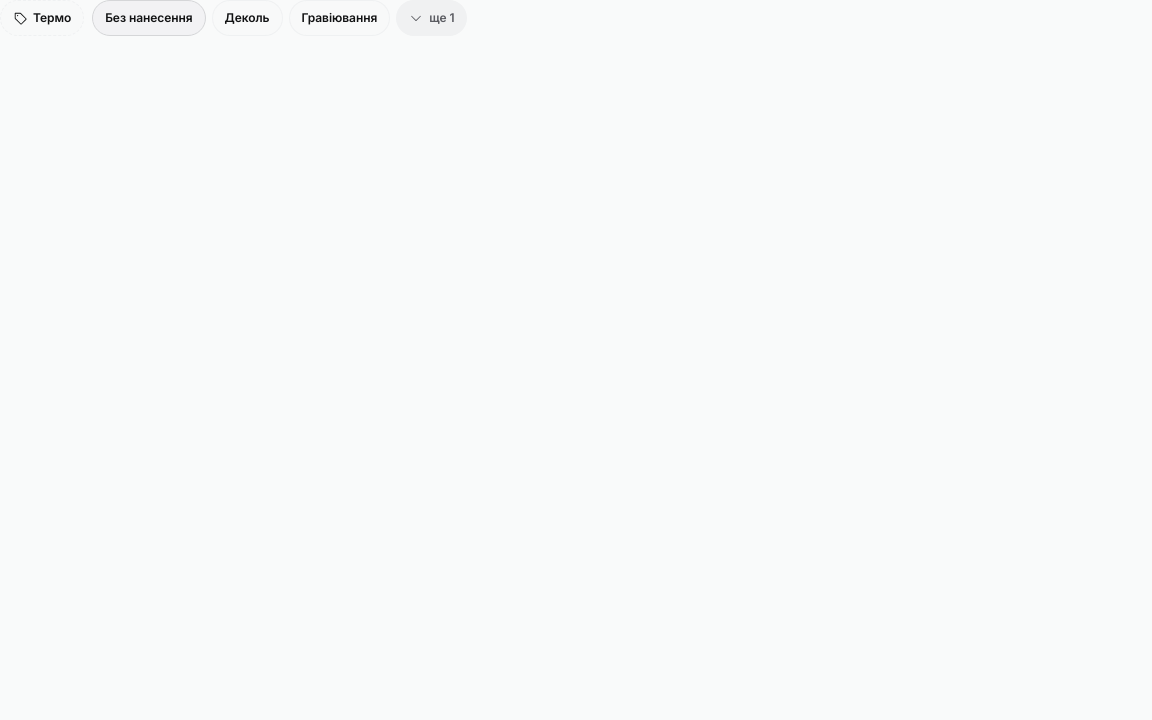
Test case: Нанесення позиції без виду › чужий здогад виправляється чипом виду — і тоді методи не розгортаються
Click the button with aria-label "Вид товару: Термо, припущення".
click(42, 18)  # box [0,0,84,36]
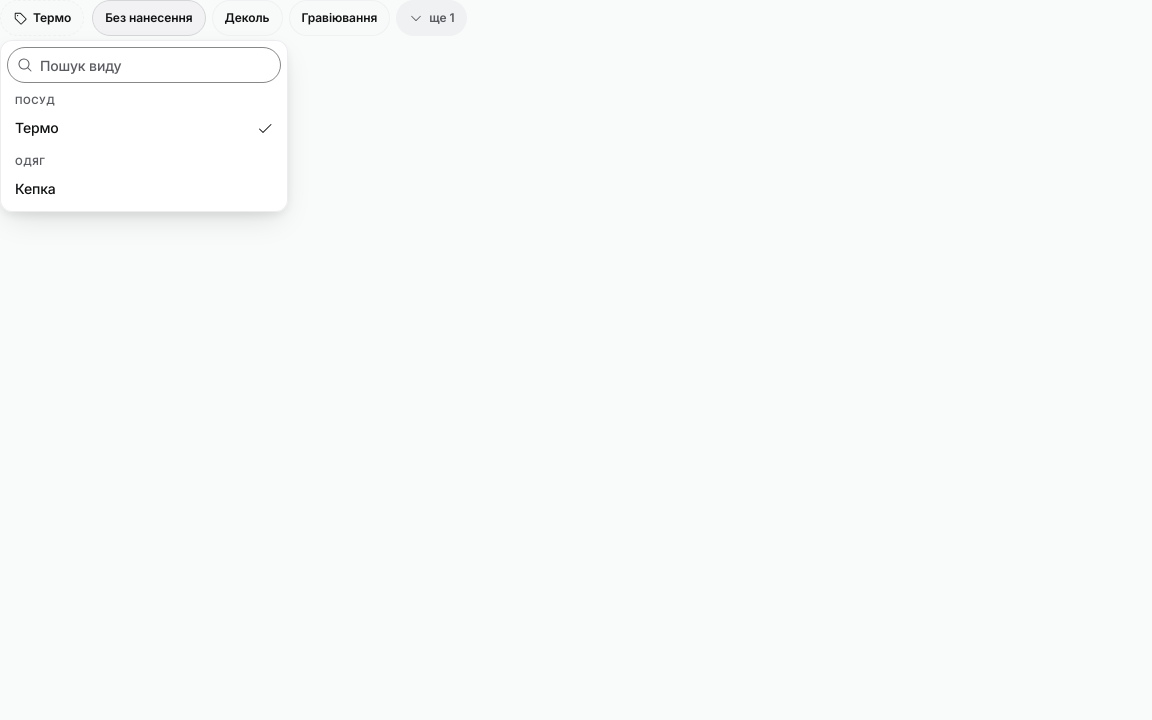
Click the option "Кепка".
click(35, 188)  # box [7,173,281,205]
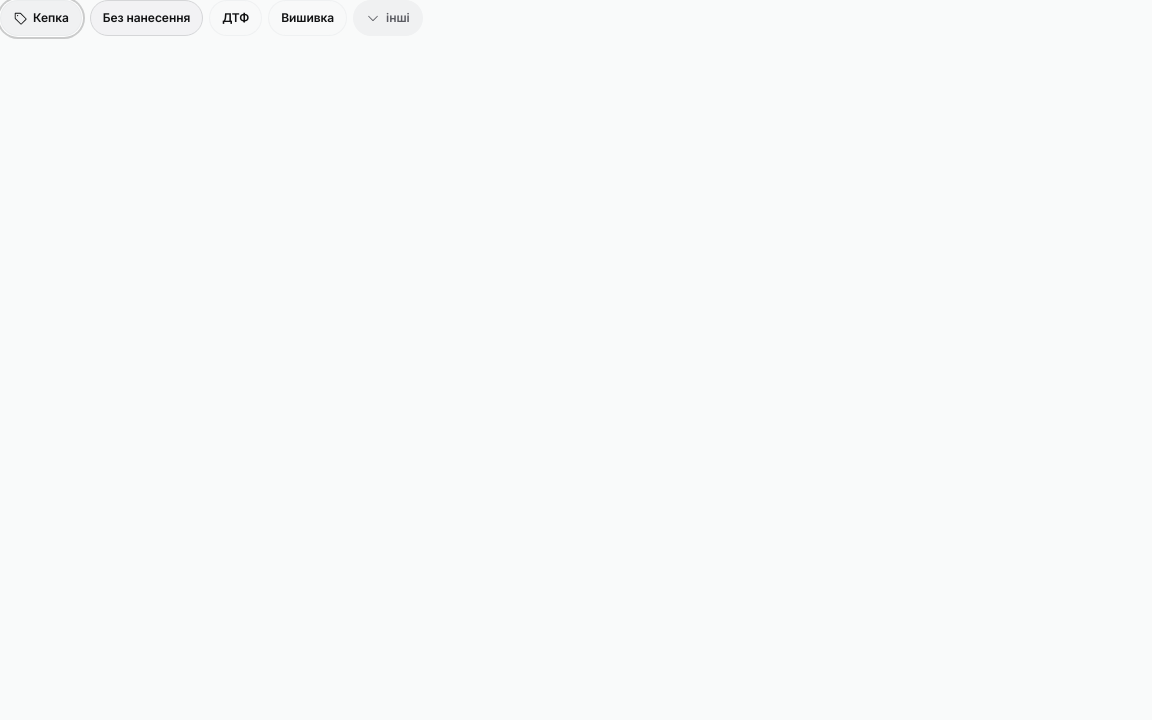
Expected: the button with aria-label "Вид товару: Кепка" is shown, [0,0,82,36]
Expected: the button "ДТФ" is shown, [209,0,262,36]
Expected: the option is gone
